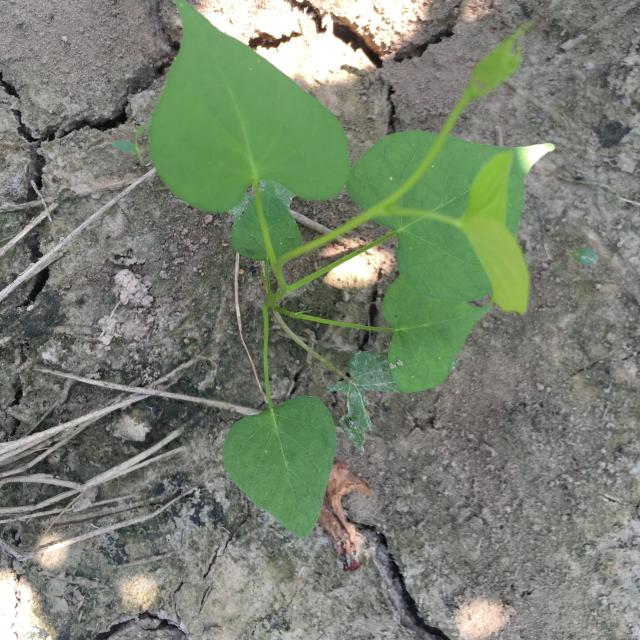MorningGlory: (147, 0, 556, 538)
